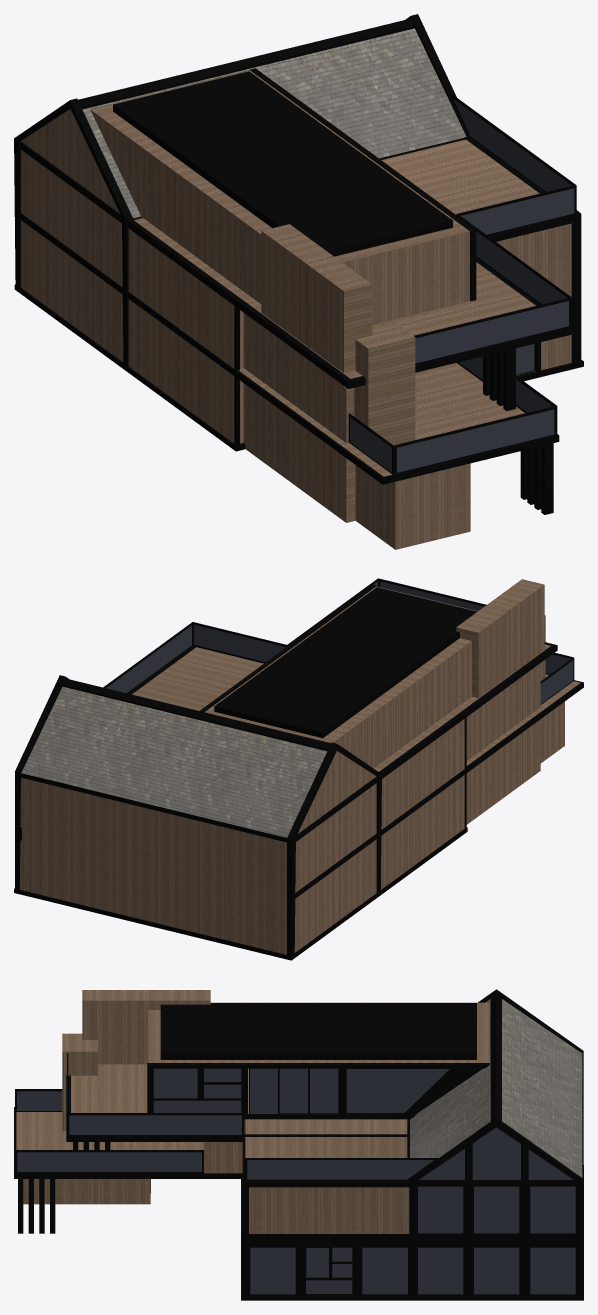
File: model.original.glb
3 renders of one model, top to bottom at view 1: azimuth 30°, elevation 25°; view 2: azimuth 150°, elevation 25°; view 3: azimuth 270°, elevation 25°, orthographic. The views are drawn at different scales.
Parts seen in each view (by area): view 1: Main Building, Second Floor Corridor, Back Wall Segment, Second Floor Block, First Floor, Storage Room, First Floor Block, Second Floor _Metal_0, Glass Barrier.004, Second Floor _Wooden_Planks_0, Glass Barrier, Pillar.003 (+12 smaller); view 2: Main Building, Second Floor Corridor, Back Wall Segment, Second Floor Block, Pillar.003, First Floor, Second Floor _Metal_0, Glass Barrier.002, Glass Barrier.001, Pillar.004, Horizontal Pillar Big.002, Horizontal Pillar Big.010 (+6 smaller); view 3: Second Floor Corridor, Main Building, First Floor Front Wall, Second Floor _Wooden_Planks_0, Second Floor Block, Window.013, Glass Barrier.003, Glass Barrier.006, First Floor, Window.014, Glass Barrier.001, Top Window (+30 smaller).
Part boxes in pixels (<box>): Main Building: <box>21,18,571,443</box>; Second Floor Corridor: <box>90,70,469,324</box>; Back Wall Segment: <box>244,313,355,522</box>; Second Floor Block: <box>261,224,372,387</box>; First Floor: <box>20,213,559,484</box>; Storage Room: <box>355,463,470,549</box>; First Floor Block: <box>354,320,415,445</box>; Second Floor _Metal_0: <box>19,141,573,388</box>; Glass Barrier.004: <box>394,406,555,474</box>; Second Floor _Wooden_Planks_0: <box>134,218,535,378</box>; Glass Barrier: <box>414,297,570,365</box>; Pillar.003: <box>14,98,133,366</box>; Main Building: <box>19,647,464,954</box>; Second Floor Corridor: <box>205,586,477,768</box>; Back Wall Segment: <box>466,664,540,824</box>; Second Floor Block: <box>456,579,544,709</box>; Pillar.003: <box>287,742,381,956</box>; First Floor: <box>295,674,583,898</box>; Second Floor _Metal_0: <box>296,642,557,841</box>; Glass Barrier.002: <box>192,622,287,663</box>; Glass Barrier.001: <box>103,622,192,693</box>; Pillar.004: <box>15,675,68,889</box>; Horizontal Pillar Big.002: <box>19,890,288,959</box>; Horizontal Pillar Big.010: <box>20,773,286,842</box>; Second Floor Corridor: <box>148,1002,489,1062</box>; Main Building: <box>245,993,582,1177</box>; First Floor Front Wall: <box>249,1187,409,1233</box>; Second Floor _Wooden_Planks_0: <box>71,1064,407,1134</box>; Second Floor Block: <box>82,990,210,1064</box>; Window.013: <box>344,1068,482,1114</box>; Glass Barrier.003: <box>15,1150,203,1173</box>; Glass Barrier.006: <box>67,1113,243,1136</box>; First Floor: <box>14,1107,242,1178</box>; Window.014: <box>152,1068,243,1112</box>; Glass Barrier.001: <box>245,1158,439,1180</box>; Top Window: <box>417,1126,575,1181</box>.
Size of the model in its own units: 14.22 by 9.1 by 25.93.
Materials: 4 (2 with a texture image).
